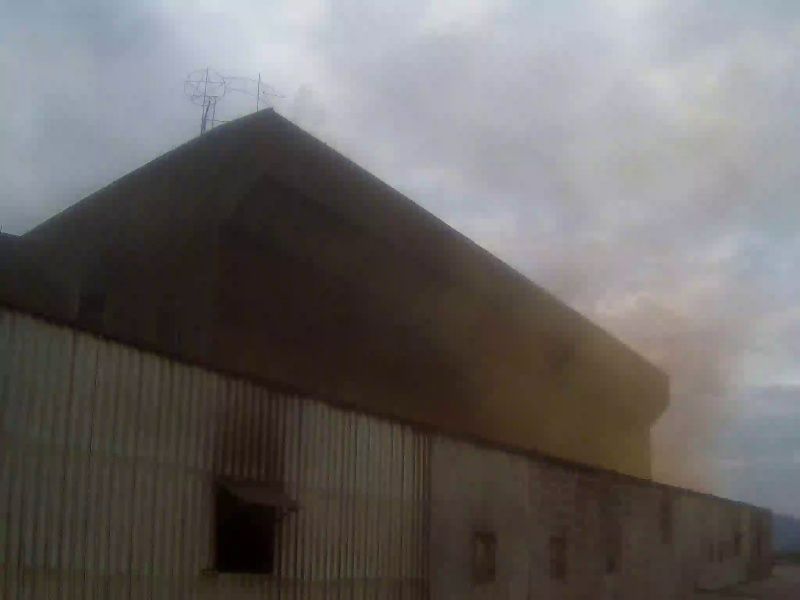Pessimo: (452, 135, 760, 493)
